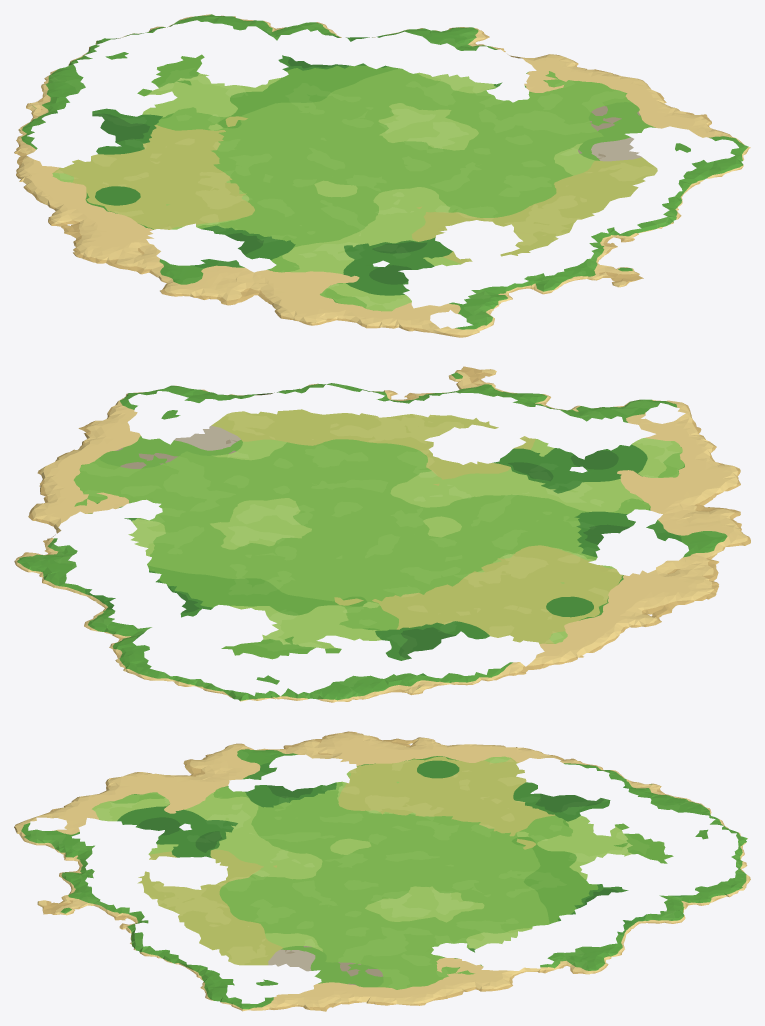
The model's file is Isl-start6-Ground.fbx.
The picture shows the model from 3 angles, top to bottom: view 1: azimuth 30°, elevation 25°; view 2: azimuth 150°, elevation 25°; view 3: azimuth 270°, elevation 25°; orthographic projection. The views are drawn at different scales.
Parts seen in each view (by area): view 1: Isl-start6-Ground-c11, Isl-start6-Ground-c21, Isl-start6-Ground-c12, Isl-start6-Ground-c22, Isl-start6-Ground-c10, Isl-start6-Ground-c20; view 2: Isl-start6-Ground-c11, Isl-start6-Ground-c12, Isl-start6-Ground-c21, Isl-start6-Ground-c22, Isl-start6-Ground-c10, Isl-start6-Ground-c20, Isl-start6-Ground-c13, Isl-start6-Ground-c23; view 3: Isl-start6-Ground-c11, Isl-start6-Ground-c21, Isl-start6-Ground-c12, Isl-start6-Ground-c22, Isl-start6-Ground-c10, Isl-start6-Ground-c20, Isl-start6-Ground-c31, Isl-start6-Ground-c23.
Part boxes in pixels (<box>): Isl-start6-Ground-c11: <box>64,160,524,328</box>; Isl-start6-Ground-c21: <box>354,88,743,289</box>; Isl-start6-Ground-c12: <box>14,52,353,233</box>; Isl-start6-Ground-c22: <box>221,18,650,159</box>; Isl-start6-Ground-c10: <box>371,294,512,337</box>; Isl-start6-Ground-c20: <box>532,267,643,294</box>; Isl-start6-Ground-c11: <box>369,406,750,612</box>; Isl-start6-Ground-c12: <box>221,535,671,702</box>; Isl-start6-Ground-c21: <box>55,380,548,534</box>; Isl-start6-Ground-c22: <box>14,459,367,658</box>; Isl-start6-Ground-c10: <box>571,399,713,444</box>; Isl-start6-Ground-c20: <box>448,366,550,403</box>; Isl-start6-Ground-c13: <box>173,676,302,701</box>; Isl-start6-Ground-c23: <box>115,652,175,681</box>; Isl-start6-Ground-c11: <box>70,731,398,868</box>; Isl-start6-Ground-c21: <box>71,865,399,1005</box>; Isl-start6-Ground-c12: <box>395,737,720,866</box>; Isl-start6-Ground-c22: <box>395,865,723,1005</box>; Isl-start6-Ground-c10: <box>14,798,79,860</box>; Isl-start6-Ground-c20: <box>37,871,80,915</box>; Isl-start6-Ground-c31: <box>231,1001,389,1011</box>; Isl-start6-Ground-c23: <box>714,867,750,898</box>.
Size of the model in its own units: 93.71 by 0.4898 by 104.
